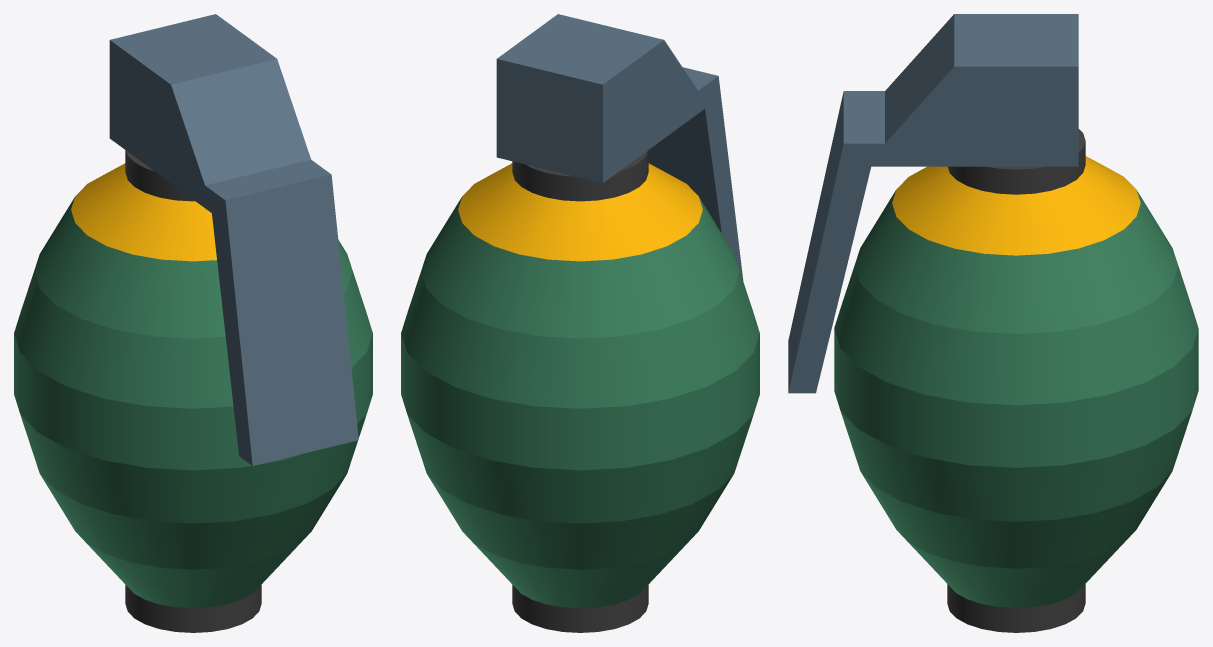
File: grenade.obj
The picture shows the model from 3 angles, left to right: view 1: azimuth 30°, elevation 25°; view 2: azimuth 150°, elevation 25°; view 3: azimuth 270°, elevation 25°; orthographic projection.
Parts seen in each view (by area): view 1: grenade, grip; view 2: grenade, grip; view 3: grenade, grip.
Part boxes in pixels (x1=…): grenade: x1=14, y1=150, x2=372, y2=632; grip: x1=109, y1=14, x2=358, y2=465; grenade: x1=401, y1=150, x2=759, y2=632; grip: x1=496, y1=14, x2=743, y2=280; grenade: x1=834, y1=129, x2=1198, y2=632; grip: x1=788, y1=14, x2=1078, y2=393.
Size of the model in its own units: 0.101 by 0.1723 by 0.1137.
